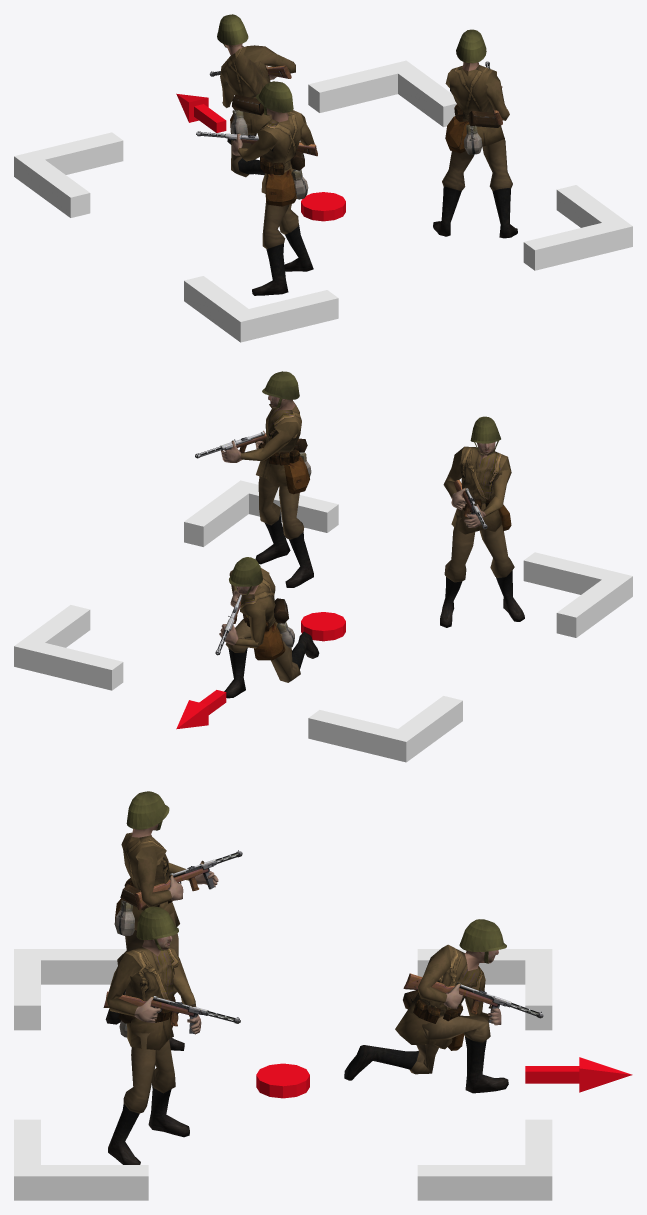
File: cf_sov_smg.obj
The picture shows the model from 3 angles, top to bottom: view 1: azimuth 30°, elevation 25°; view 2: azimuth 150°, elevation 25°; view 3: azimuth 270°, elevation 25°; orthographic projection. The views are drawn at different scales.
Parts seen in each view (by area): view 1: i_frame_Cube.002, german_rigged.001_german_rigged.013, german_rigged.012, Mors_SMG1.003, pointer_Cylinder, arrow_Cube; view 2: i_frame_Cube.002, german_rigged.012, german_rigged.001_german_rigged.013, Mors_SMG1.003, pointer_Cylinder, arrow_Cube; view 3: i_frame_Cube.002, german_rigged.012, Mors_SMG1.003, german_rigged.001_german_rigged.013, arrow_Cube, pointer_Cylinder.
Part boxes in pixels (x1,y1,x2,y2): i_frame_Cube.002: [14, 60, 632, 342]; german_rigged.001_german_rigged.013: [196, 81, 317, 295]; german_rigged.012: [433, 29, 517, 238]; Mors_SMG1.003: [209, 14, 295, 177]; pointer_Cylinder: [301, 192, 345, 221]; arrow_Cube: [176, 93, 226, 132]; i_frame_Cube.002: [14, 480, 632, 762]; german_rigged.012: [195, 371, 313, 587]; german_rigged.001_german_rigged.013: [440, 416, 524, 627]; Mors_SMG1.003: [215, 557, 319, 698]; pointer_Cylinder: [301, 612, 345, 641]; arrow_Cube: [176, 690, 226, 729]; i_frame_Cube.002: [14, 949, 552, 1200]; german_rigged.012: [103, 906, 240, 1164]; Mors_SMG1.003: [344, 919, 543, 1093]; german_rigged.001_german_rigged.013: [105, 791, 242, 1050]; arrow_Cube: [525, 1057, 632, 1092]; pointer_Cylinder: [256, 1063, 309, 1098].
Size of the model in its own units: 4 by 1.98 by 4.6.
2 materials, 2 textured.
